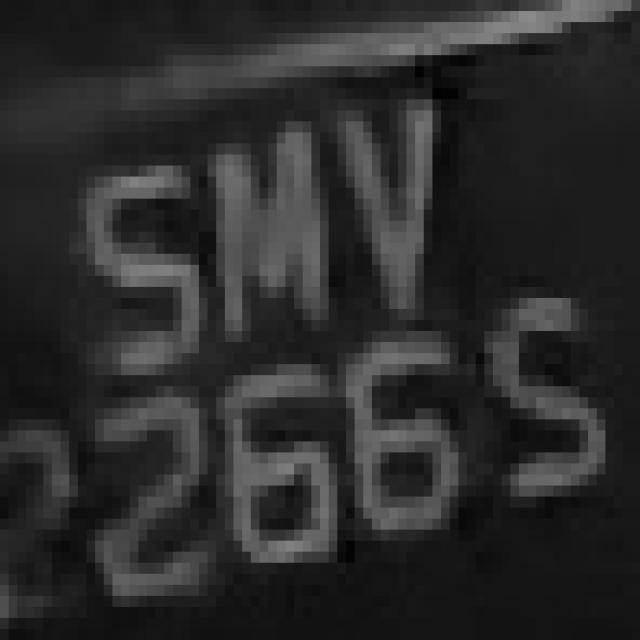2: (86, 386, 208, 629)
6: (329, 309, 467, 552), (216, 342, 338, 596)
M: (182, 99, 337, 353)
S: (52, 122, 207, 408), (449, 254, 596, 518)
V: (294, 66, 458, 353)
